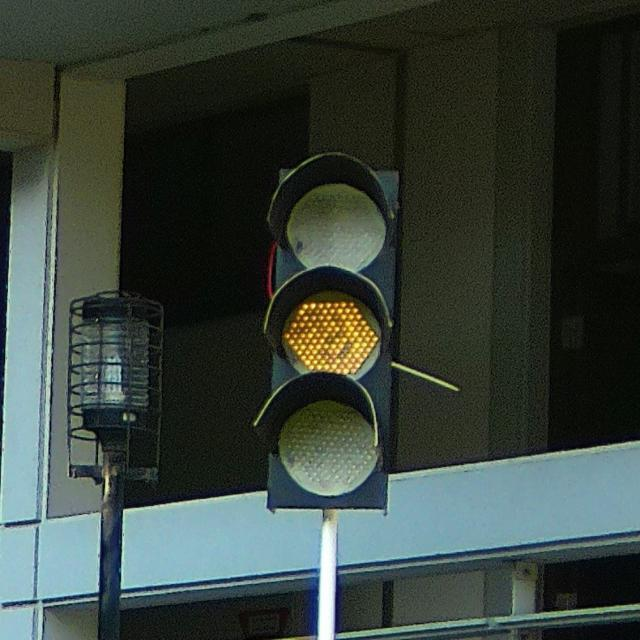yellow_light: (265, 161, 399, 512)
